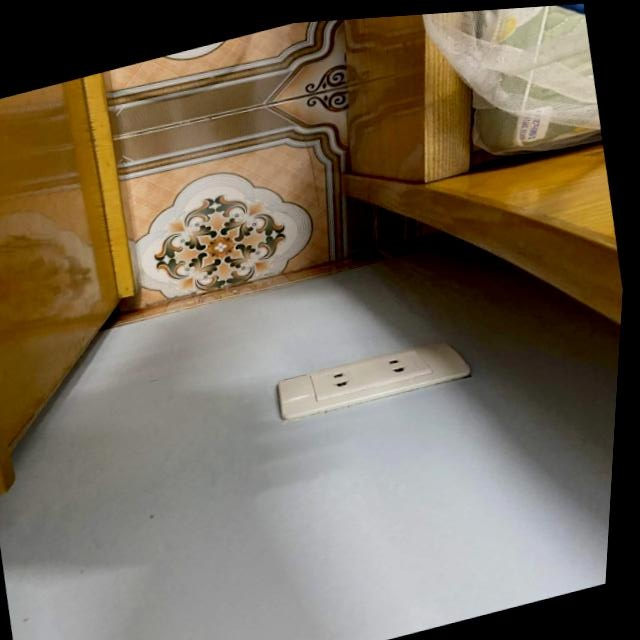outlet: (273, 330, 475, 425)
